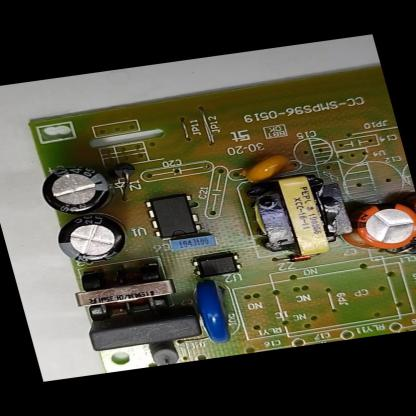Cap1: (332, 191, 416, 259)
Cap2: (402, 191, 416, 232)
Cap3: (49, 209, 136, 268)
Cap4: (30, 157, 126, 220)
MOSFET: (142, 190, 207, 242)
Mov: (185, 272, 244, 353)
Resistor: (144, 338, 182, 367)
Transformer: (237, 169, 358, 265), (63, 252, 184, 330)
